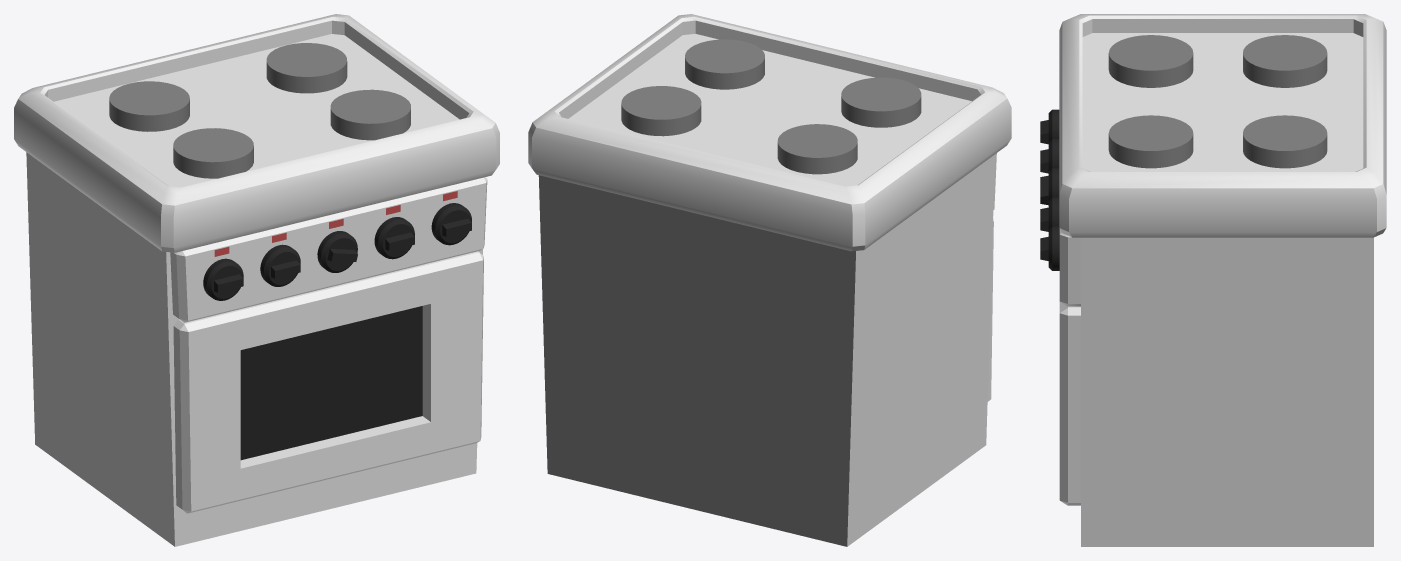
File: Stove.fbx
3 views of the same model, side by side, from view 1: azimuth 30°, elevation 25°; view 2: azimuth 150°, elevation 25°; view 3: azimuth 270°, elevation 25° (orthographic). The views are drawn at different scales.
Visible parts, largest first — view 1: stove; view 2: stove; view 3: stove.
Part boxes in pixels (x1,y1,x2,y2): stove: (14,14,499,546); stove: (528,14,1011,546); stove: (1040,14,1386,546).
Size of the model in its own units: 169 by 171 by 142.
